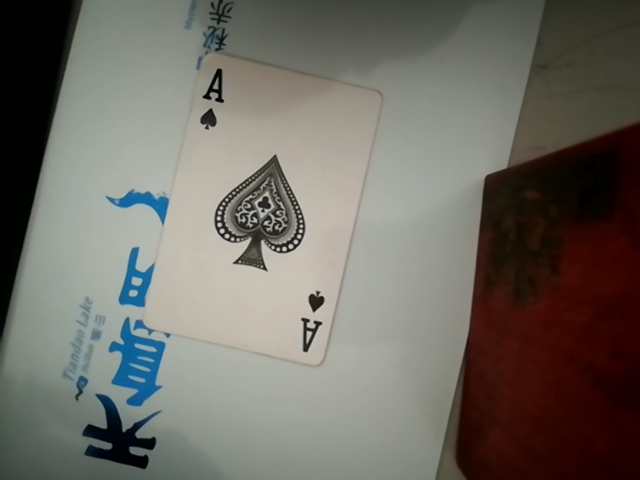ht a: (155, 53, 363, 371)
